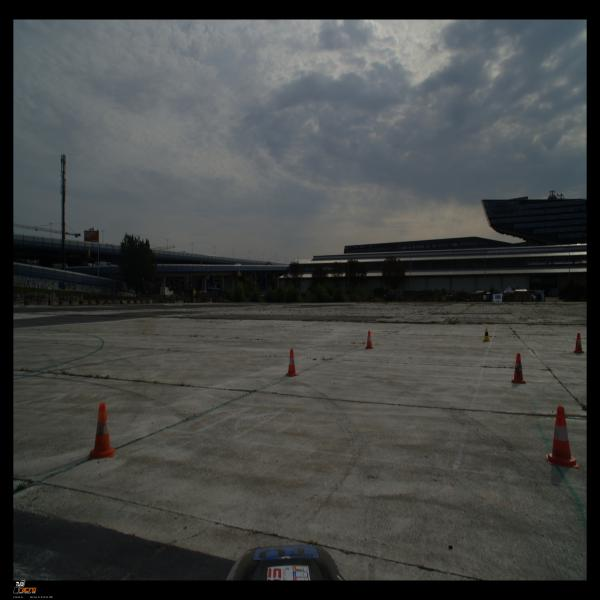orange_cone: (546, 406, 580, 468), (87, 403, 116, 459), (511, 353, 526, 384), (284, 348, 300, 377), (571, 332, 586, 353), (365, 330, 374, 349)
yellow_cone: (482, 327, 490, 342)
